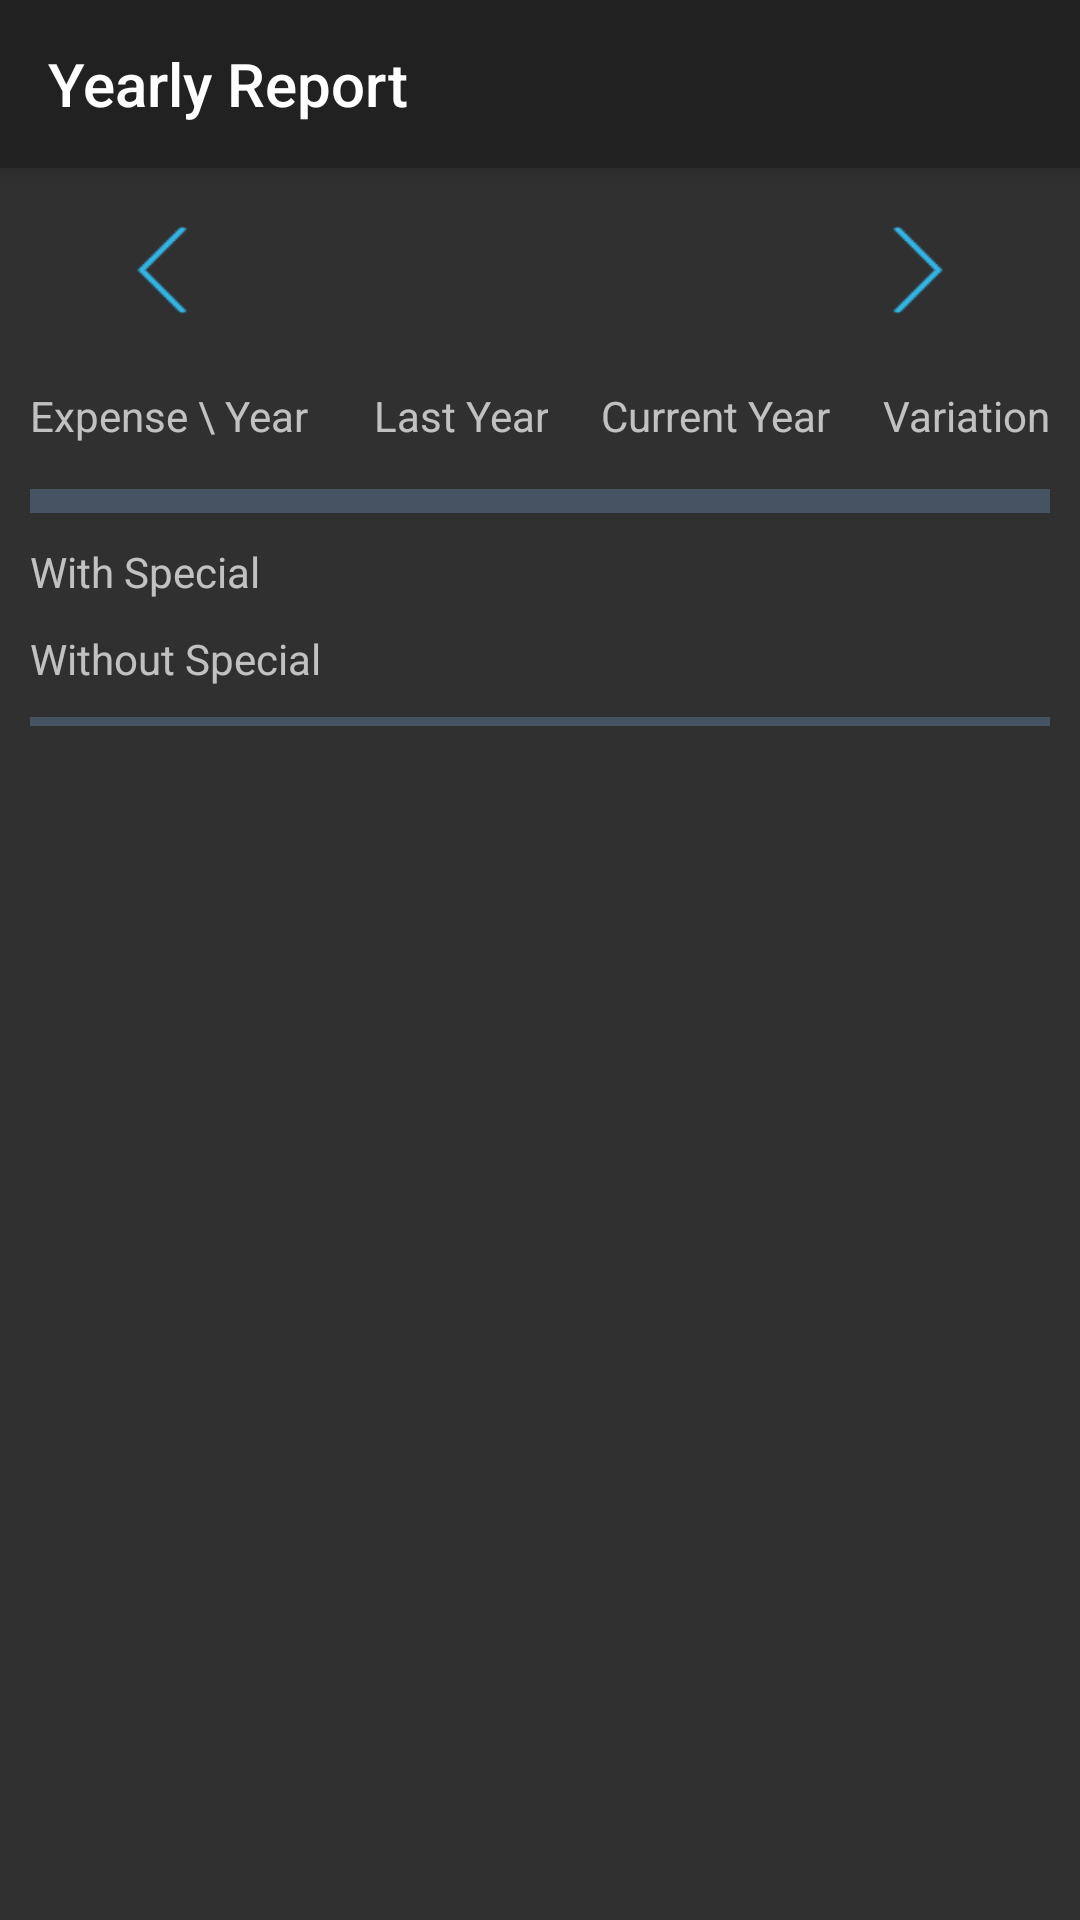

Icon click points for this 1080px×1920px phone screenshot, format point (x, y):
arrow left: point (162, 270)
arrow right: point (918, 270)
